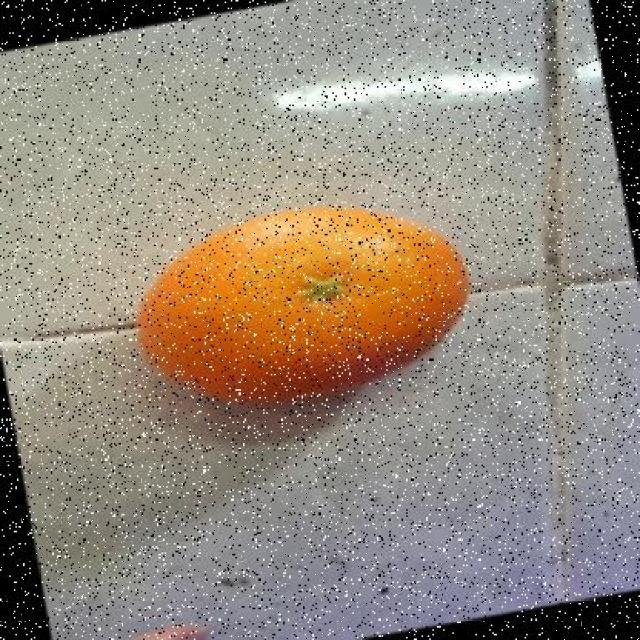Orange: (135, 204, 471, 408)
